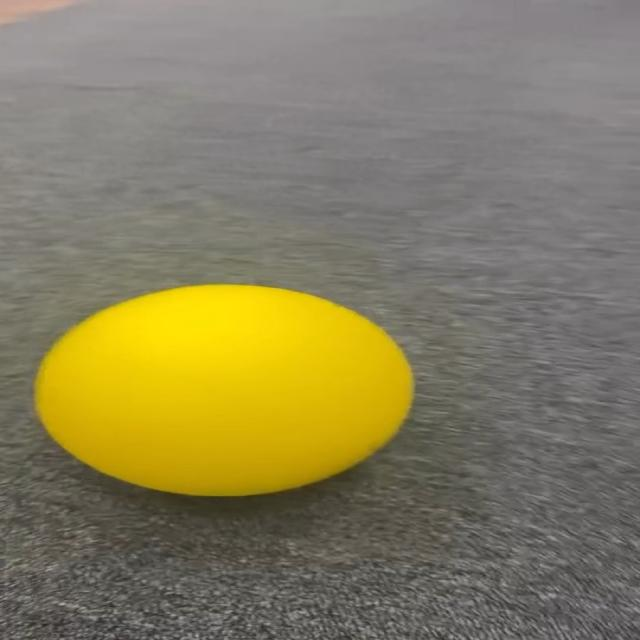Fuels: (34, 290, 410, 500)
